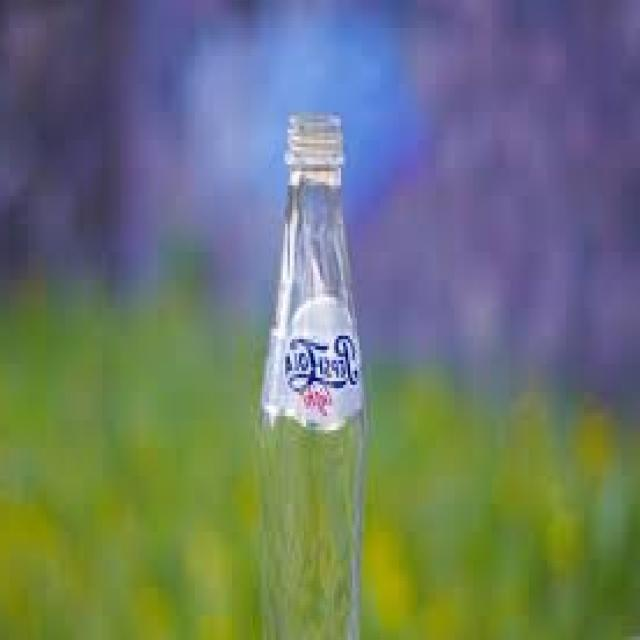glass: (252, 107, 371, 640)
